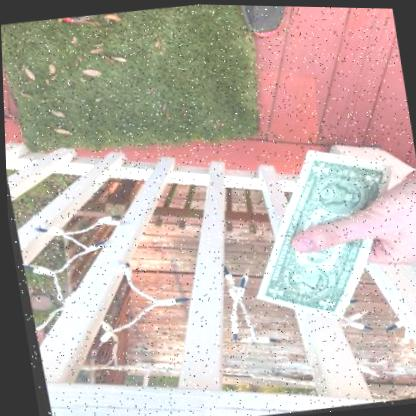one-back: (251, 149, 389, 317)
